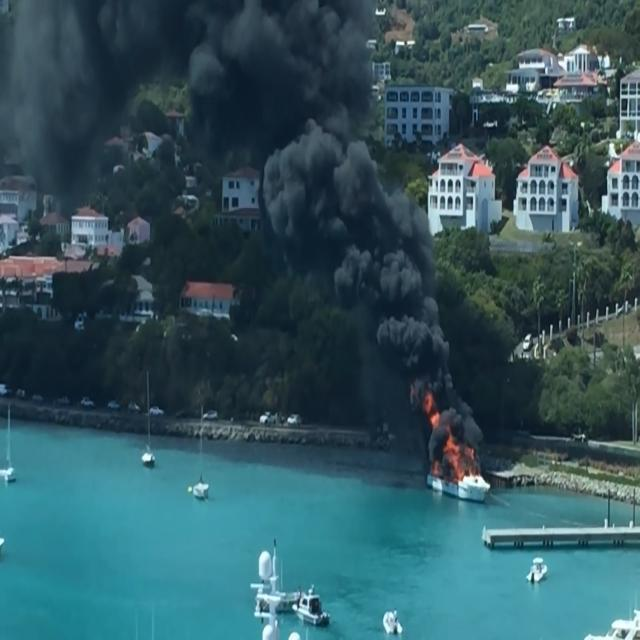Smoke: (205, 0, 399, 162), (265, 116, 413, 291), (376, 257, 449, 372)
